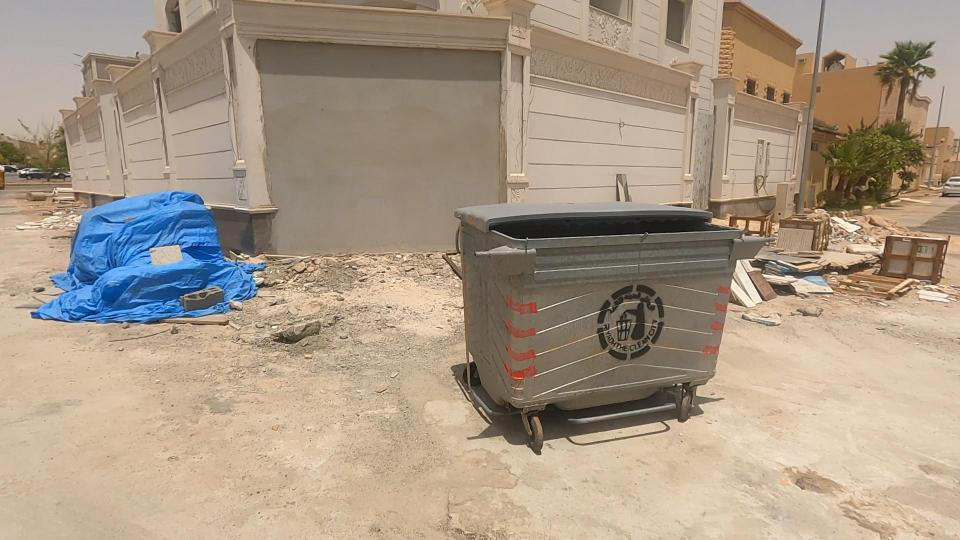GARBAGE: (663, 209, 866, 381), (721, 209, 872, 327), (790, 242, 960, 338), (811, 179, 890, 275)
